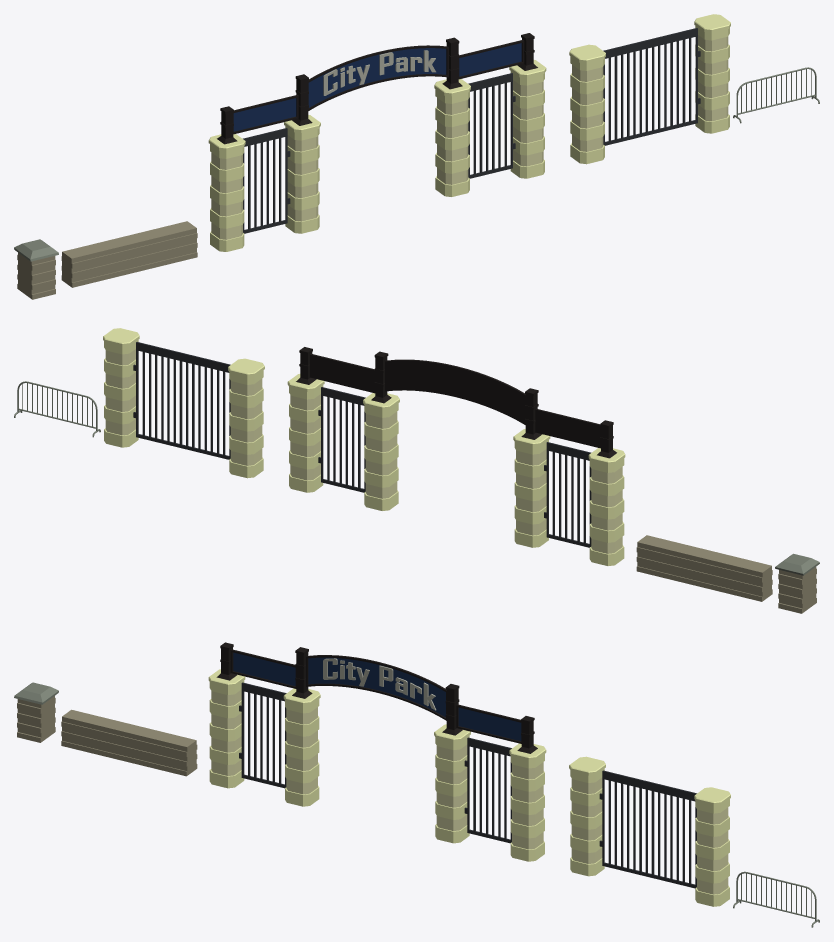
File: Fences.fbx
3 renders of one model, top to bottom at view 1: azimuth 30°, elevation 25°; view 2: azimuth 150°, elevation 25°; view 3: azimuth 330°, elevation 25°, orthographic.
Parts seen in each view (by area): view 1: Gates, Fence, Barrier_2, Barrier_1, Fence_metal; view 2: Gates, Fence, Barrier_2, Barrier_1, Fence_metal; view 3: Gates, Fence, Barrier_2, Barrier_1, Fence_metal.
Boxes of the visible parts, x1,y1,x2,y2 form: Gates: (208,33,546,251); Fence: (569,14,730,164); Barrier_2: (61,221,197,287); Barrier_1: (14,239,58,299); Fence_metal: (733,67,819,123); Gates: (287,347,625,565); Fence: (103,328,264,478); Barrier_2: (636,535,772,601); Barrier_1: (775,553,819,613); Fence_metal: (14,381,100,437); Gates: (208,642,546,861); Fence: (569,756,730,906); Barrier_2: (61,709,197,776); Barrier_1: (14,682,58,742); Fence_metal: (733,871,819,927).
Bounding box in the file's own units: 1585 × 297 × 57.71.
